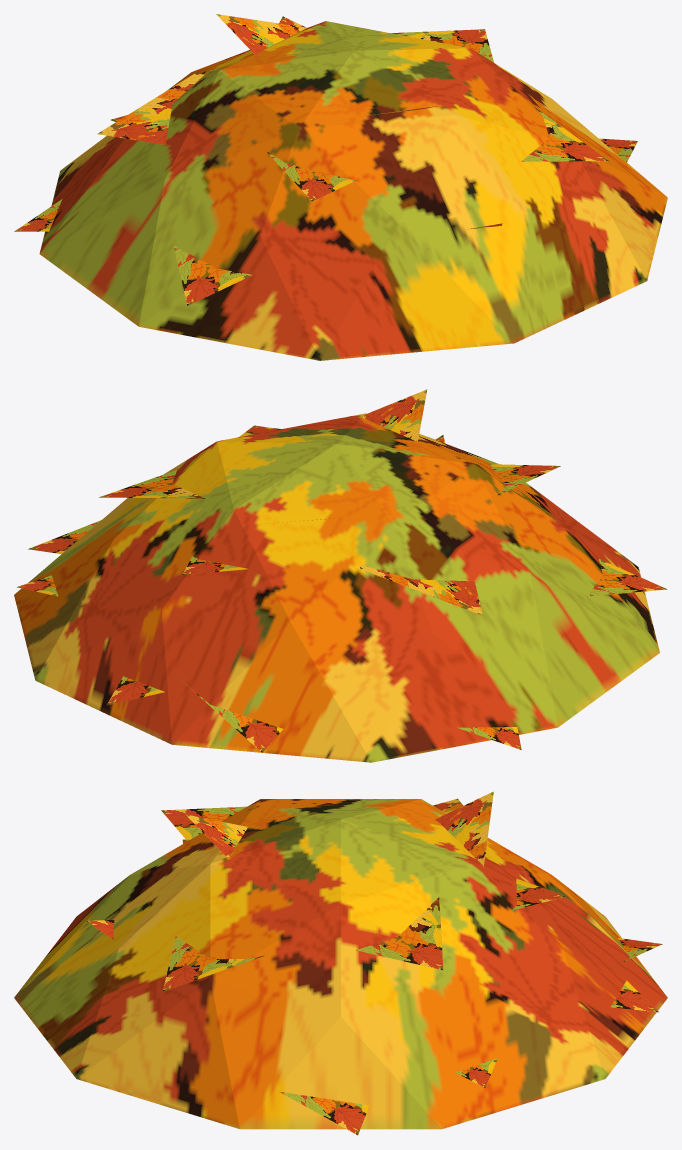
The model's file is LeafPile.glb.
The picture shows the model from 3 angles, top to bottom: view 1: azimuth 30°, elevation 25°; view 2: azimuth 150°, elevation 25°; view 3: azimuth 270°, elevation 25°; orthographic projection. The views are drawn at different scales.
Parts seen in each view (by area): view 1: Icosphere, Plane.004, Plane, Plane.005, Plane.013, Plane.008, Plane.002, Plane.010; view 2: Icosphere, Plane.004, Plane.012, Plane, Plane.002, Plane.003, Plane.008, Plane.006, Plane.010, Plane.007, Plane.009; view 3: Icosphere, Plane.002, Plane.013, Plane.005, Plane.007, Plane.008, Plane.012, Plane.009, Plane.006, Plane.011.
Boxes of the visible parts, left/top/right/bottom form: Icosphere: left=39, top=21, right=667, bottom=360; Plane.004: left=97, top=73, right=204, bottom=144; Plane: left=173, top=245, right=252, bottom=305; Plane.005: left=521, top=106, right=609, bottom=161; Plane.013: left=216, top=14, right=307, bottom=54; Plane.008: left=266, top=151, right=356, bottom=201; Plane.002: left=391, top=29, right=493, bottom=62; Plane.010: left=14, top=199, right=62, bottom=231; Icosphere: left=14, top=413, right=659, bottom=762; Plane.004: left=359, top=564, right=482, bottom=615; Plane.012: left=358, top=389, right=427, bottom=441; Plane: left=587, top=559, right=667, bottom=596; Plane.002: left=99, top=470, right=205, bottom=498; Plane.003: left=177, top=677, right=283, bottom=752; Plane.008: left=489, top=464, right=560, bottom=495; Plane.006: left=107, top=676, right=164, bottom=705; Plane.010: left=457, top=727, right=521, bottom=749; Plane.007: left=28, top=520, right=101, bottom=553; Plane.009: left=182, top=556, right=248, bottom=574; Icosphere: left=14, top=799, right=667, bottom=1129; Plane.002: left=356, top=897, right=443, bottom=970; Plane.013: left=435, top=791, right=493, bottom=866; Plane.005: left=162, top=936, right=265, bottom=991; Plane.007: left=279, top=1091, right=369, bottom=1135; Plane.008: left=161, top=806, right=246, bottom=841; Plane.012: left=185, top=814, right=247, bottom=859; Plane.009: left=512, top=878, right=565, bottom=910; Plane.006: left=611, top=980, right=658, bottom=1012; Plane.011: left=455, top=1058, right=497, bottom=1087.
Bounding box in the file's own units: 2.51 × 0.7588 × 2.51.
1 material, 1 textured.
